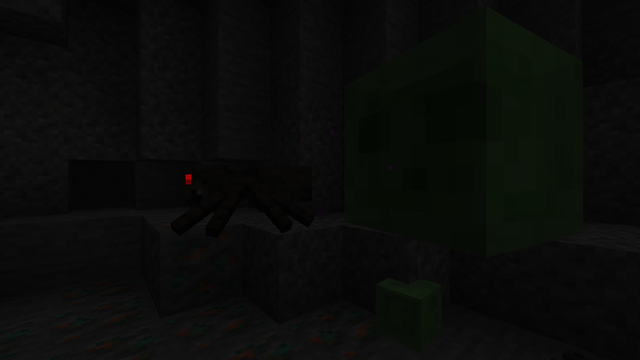araignees: (176, 152, 311, 239)
slimes: (338, 14, 569, 261), (373, 275, 443, 353)
